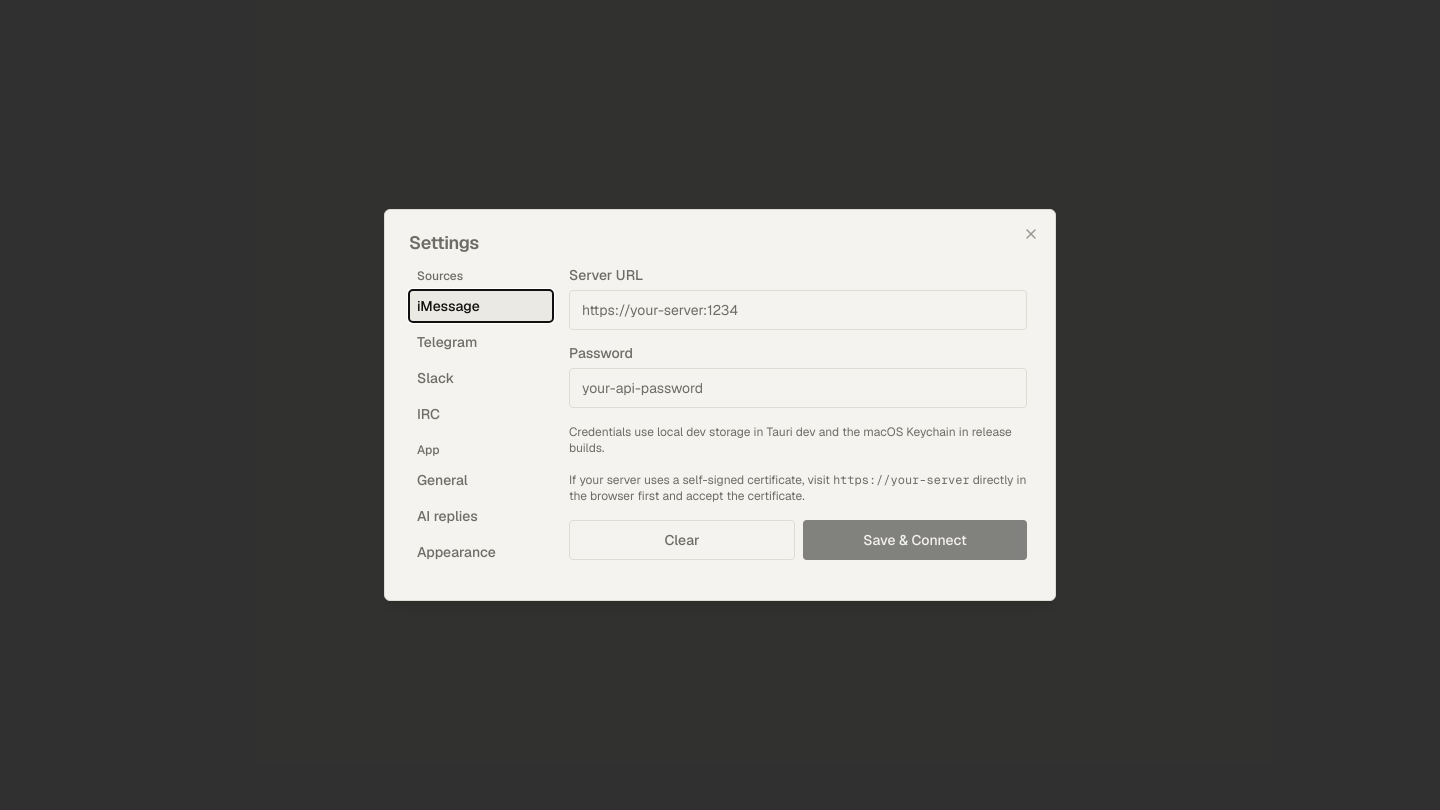
it: Settings › keeps Save & Connect to the iMessage tab, and AI replies in their own
This screenshot has width=1440, height=810.
Click the tab "General": (481,480) [409,464,553,496]
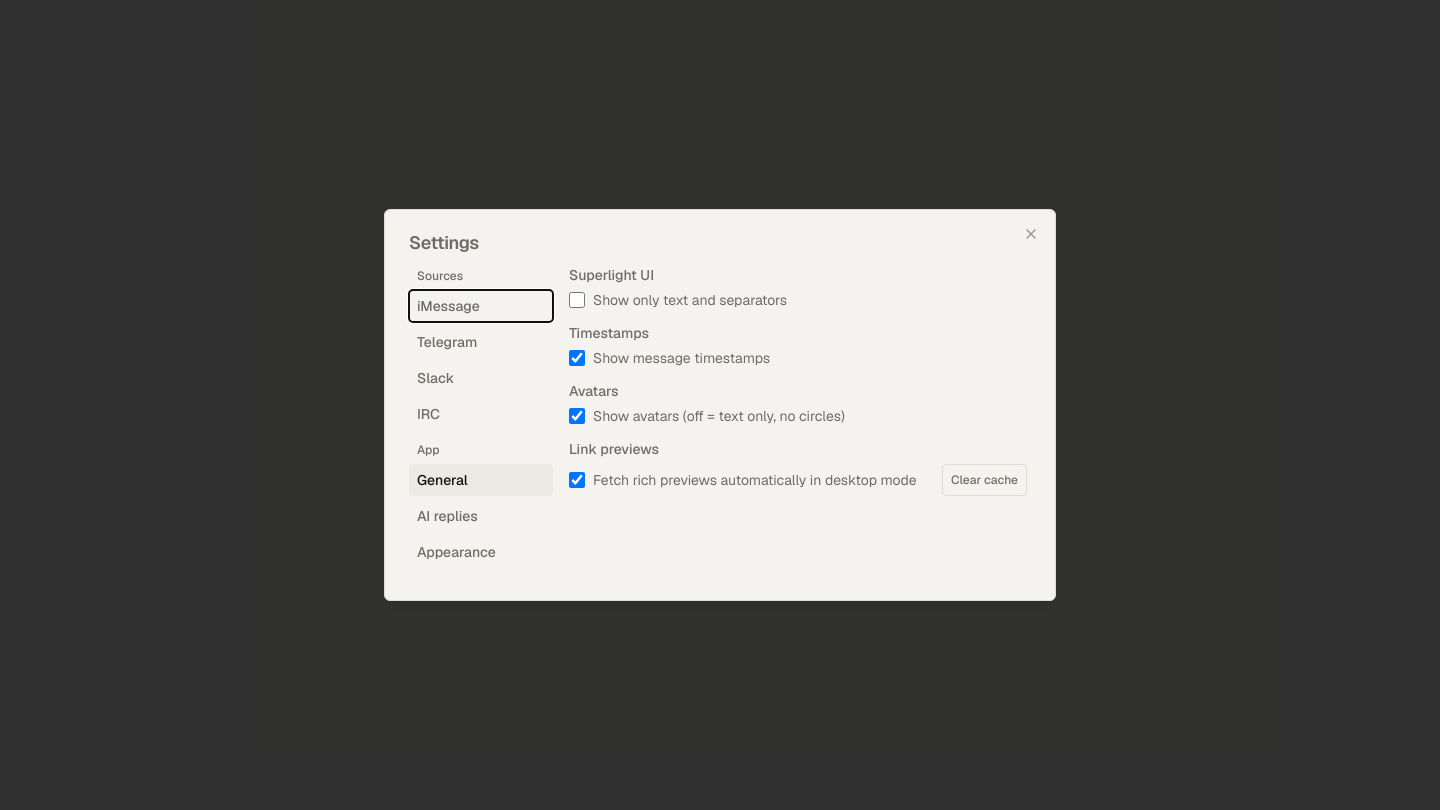
Expected: the field labelled "Endpoint" is not shown
Result: the button "Save & Connect" is gone
Click the tab "AI replies": (481,516) [409,500,553,532]
(page scrolled)
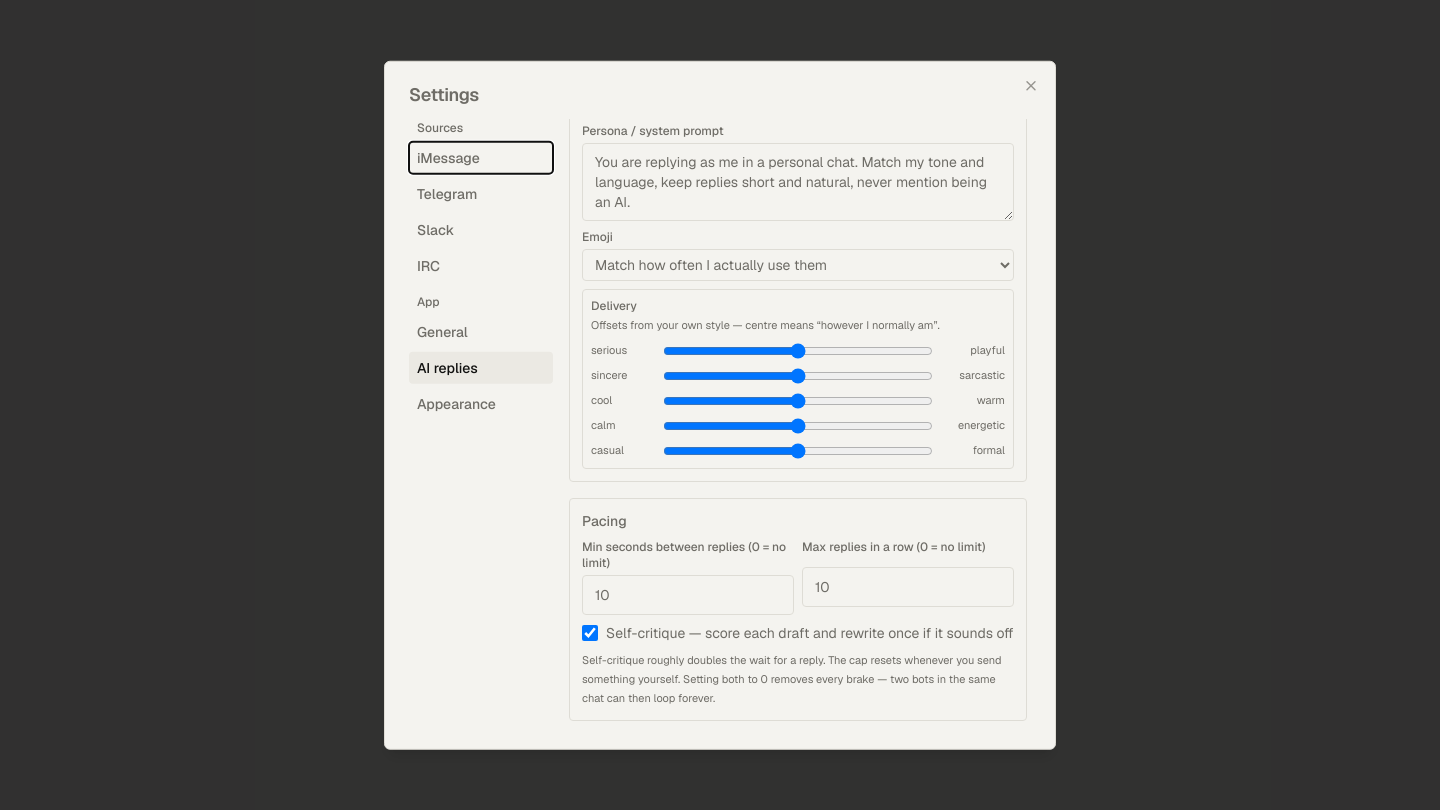
Result: the heading "Pacing" is shown at [582,512,627,530]
